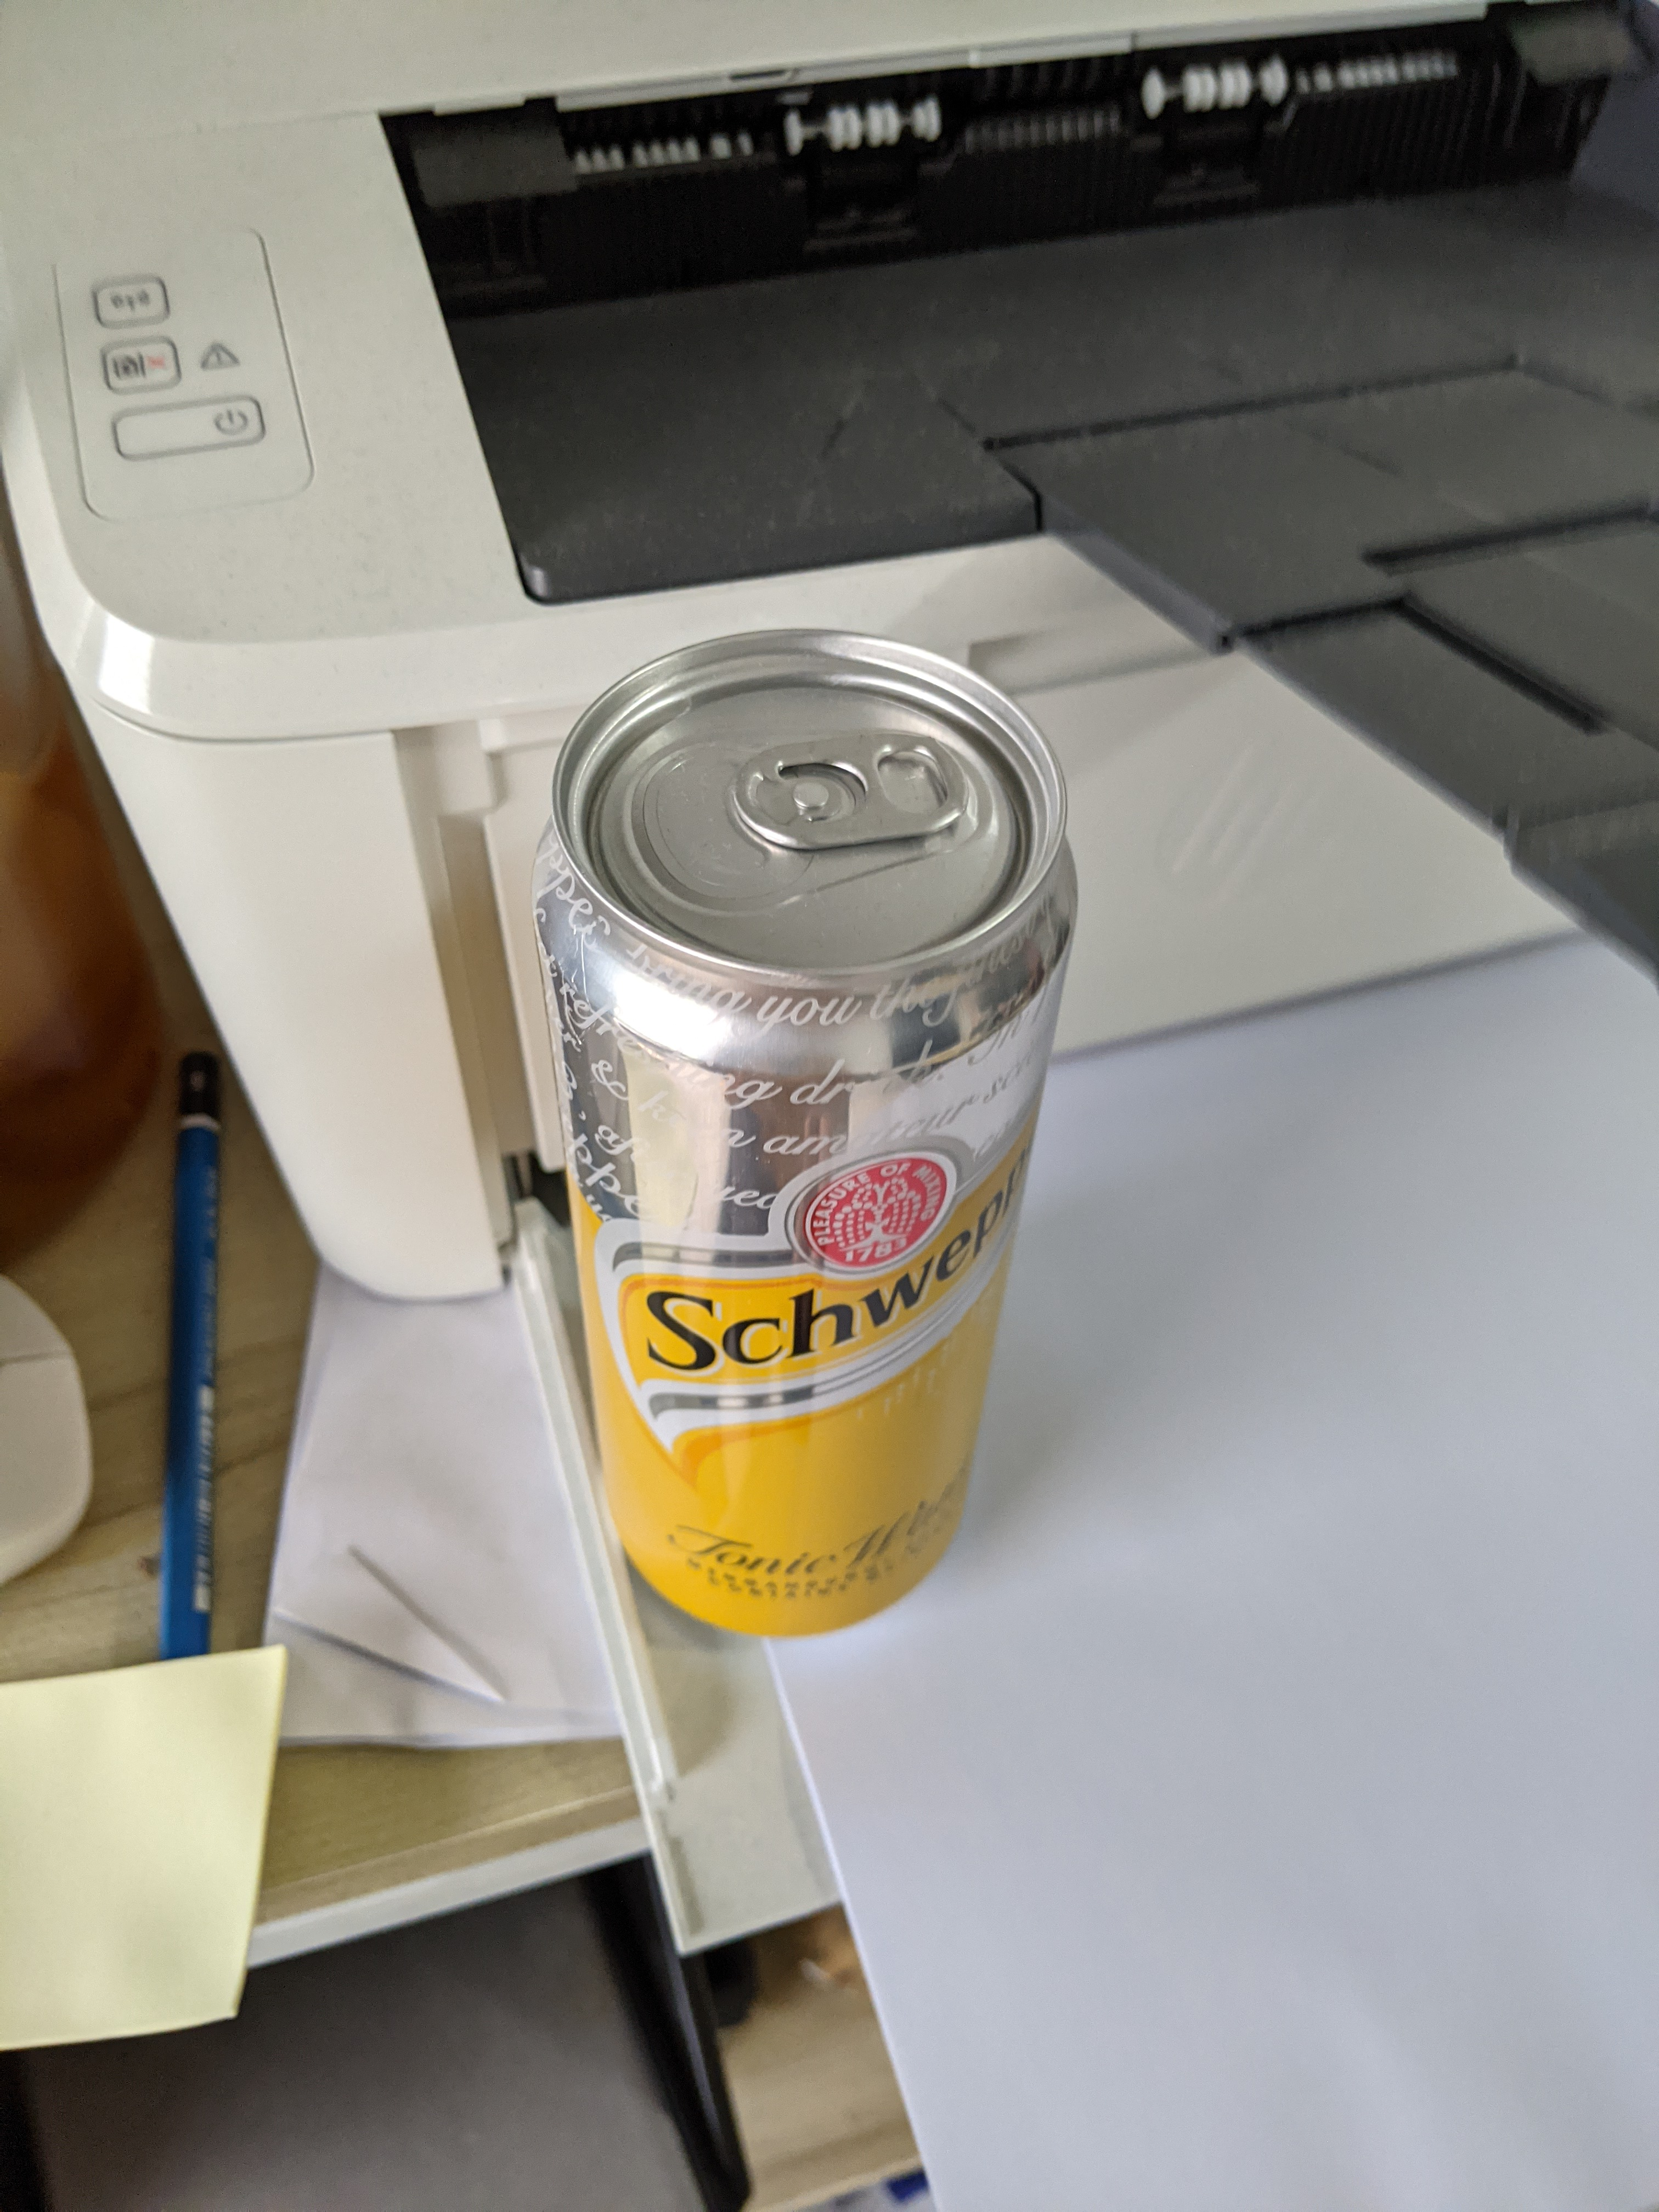schweppes drink can tonic water: (512, 603, 1103, 1669)
